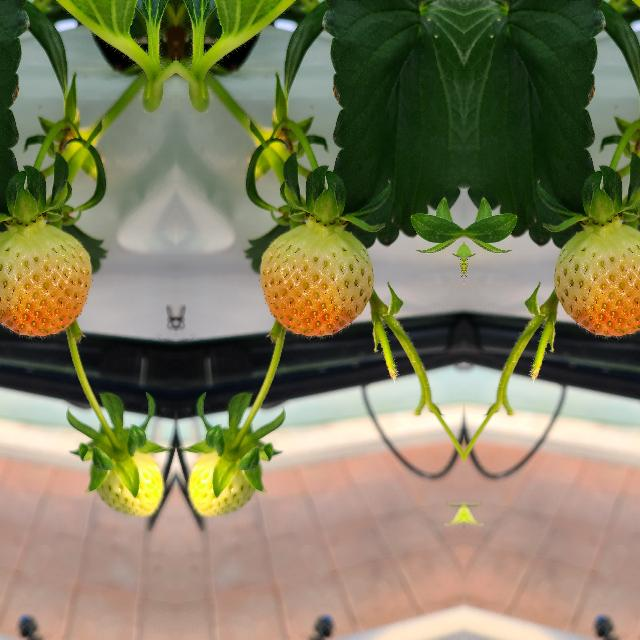Health_25: (91, 441, 162, 517), (188, 441, 258, 517)
Health_50: (258, 222, 372, 336), (0, 222, 91, 335), (554, 222, 640, 335)
